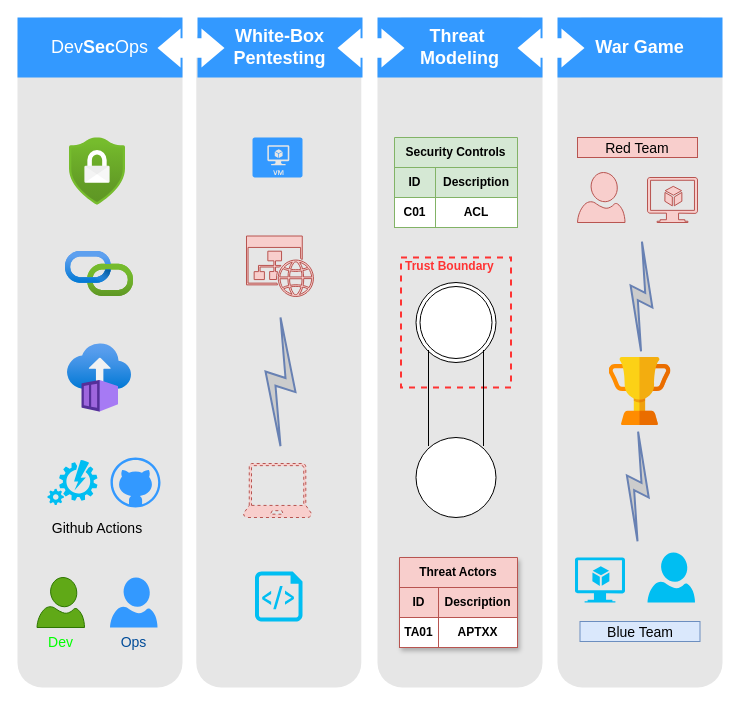
Some shapes in this 739 by 704 pixel diagram are drawn without their labels. The centre of each missing label's shape, as x and y in pixels:
"API" goes at (x=99, y=273).
"Container" goes at (x=99, y=377).
"Pentest Machine" goes at (x=277, y=490).
"Source Code" goes at (x=278, y=596).
"Virtual Machine" goes at (x=277, y=157).
